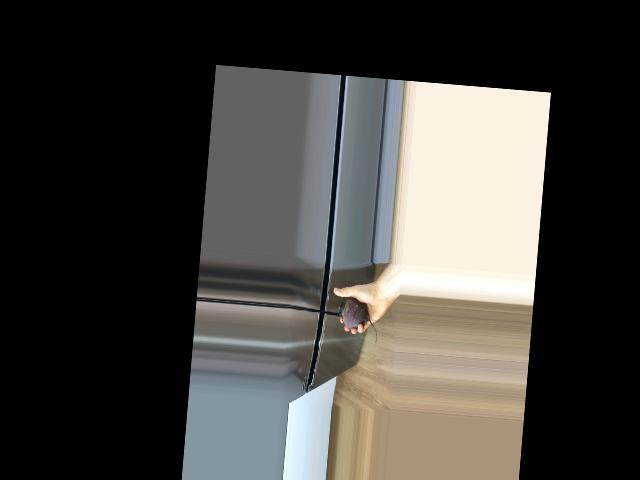beet: (336, 296, 380, 344)
